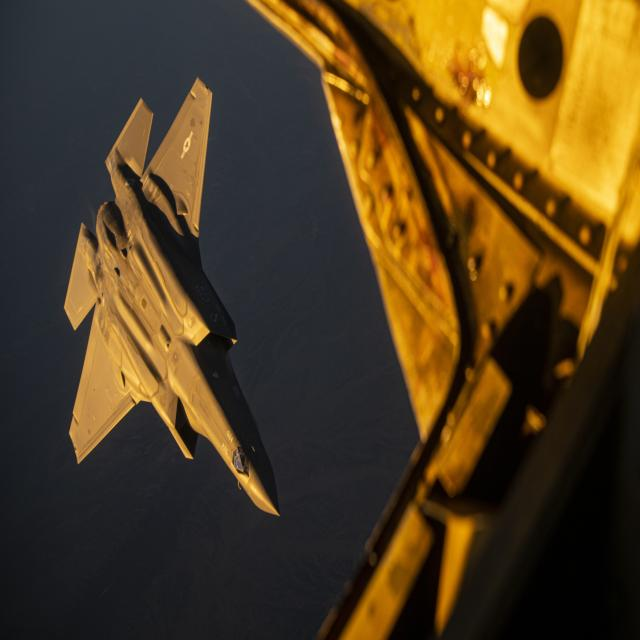MIL_Plane: (64, 76, 280, 517)
